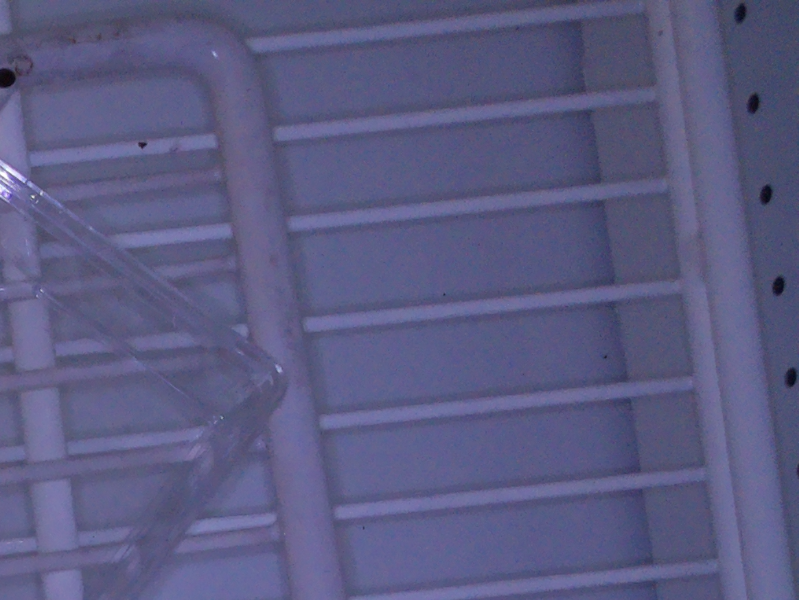plate: (1, 156, 294, 600)
